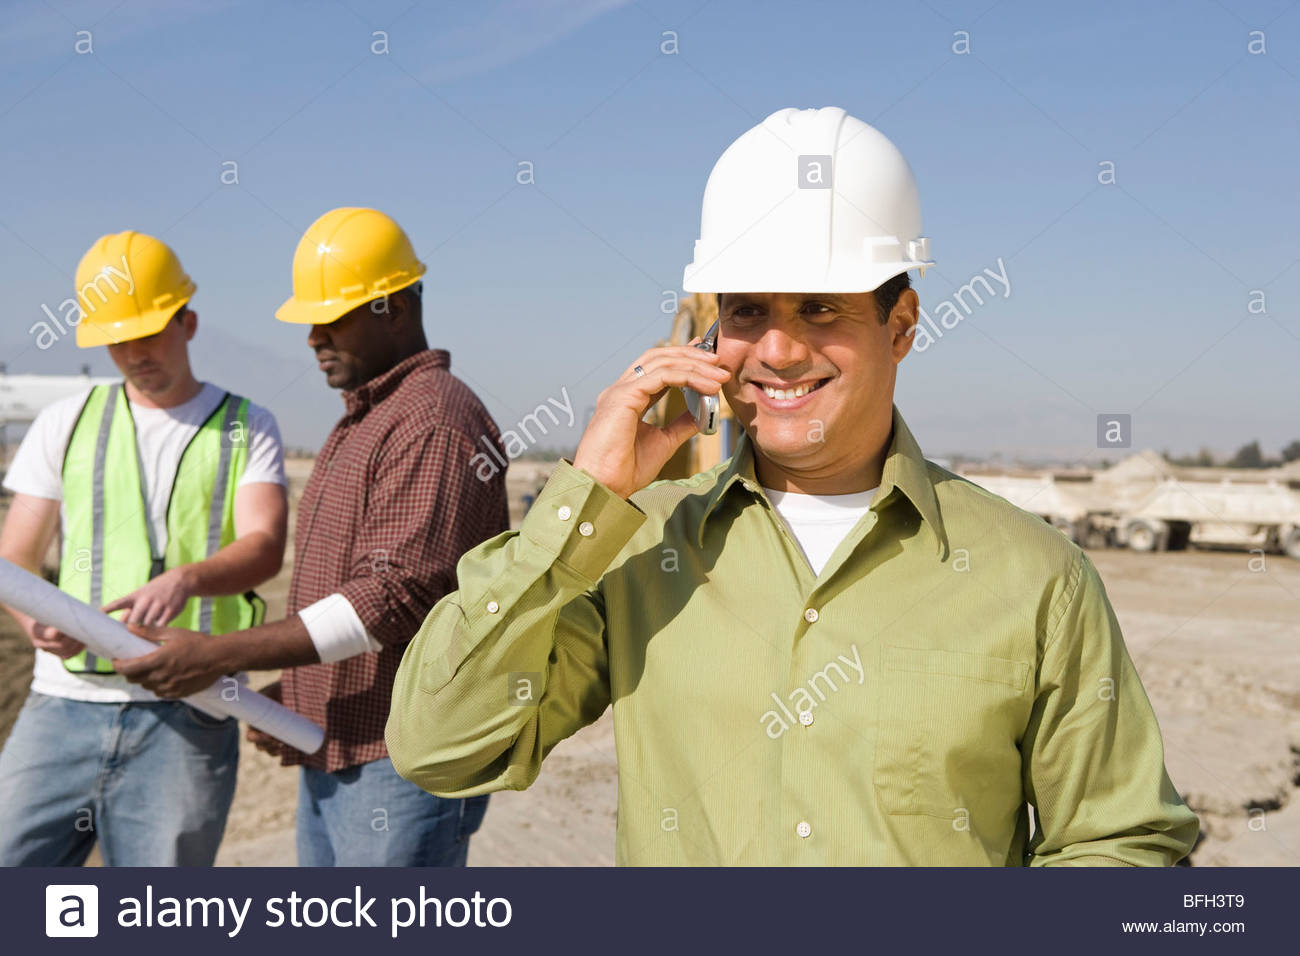Helmet: (674, 97, 940, 302), (270, 202, 432, 326), (70, 226, 200, 352)
